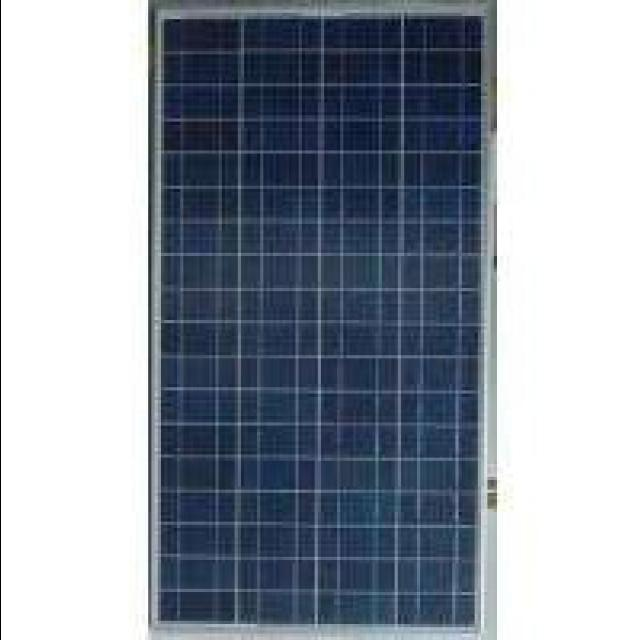no faulty: (160, 0, 497, 640)
